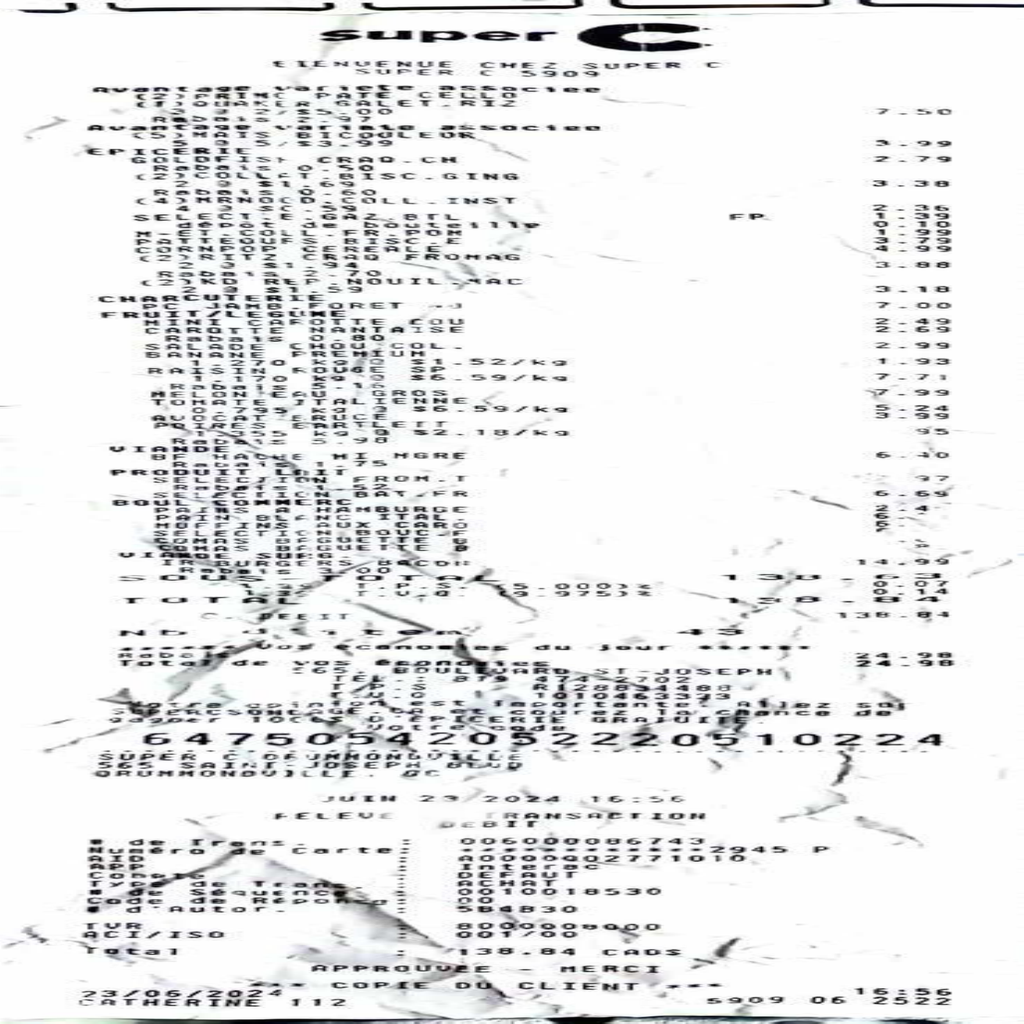recipt: (0, 4, 1024, 1018)
